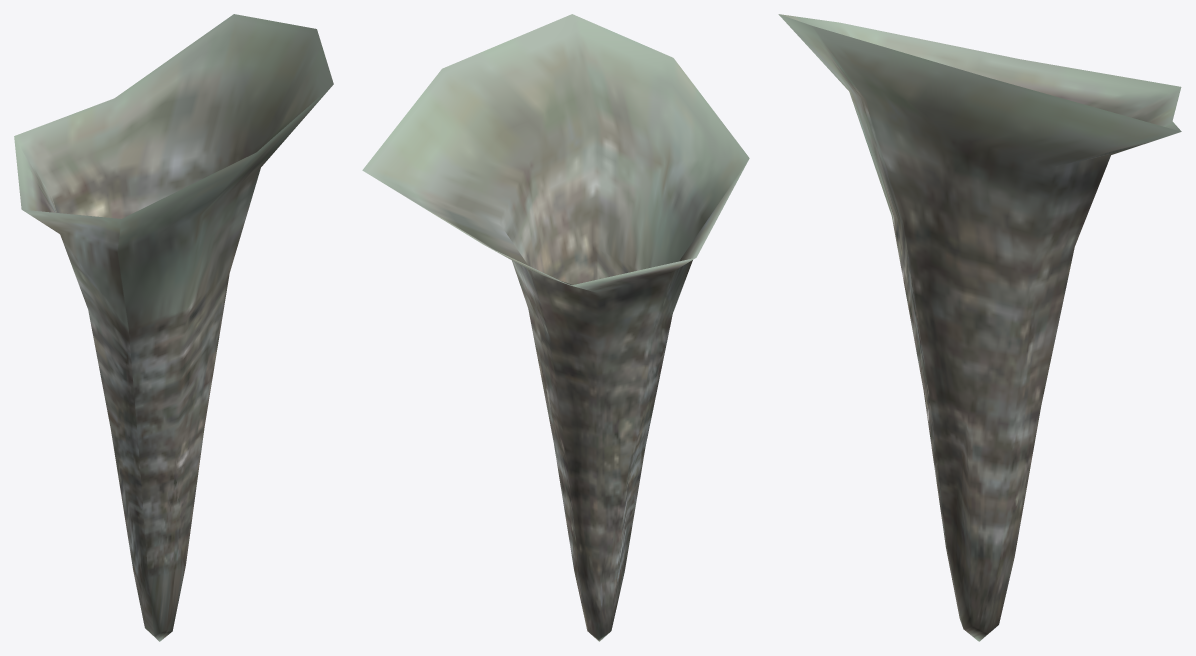
File: TROLLHOLE02_PS-SECRETSTALAG28.fbx
The picture shows the model from 3 angles, left to right: view 1: azimuth 30°, elevation 25°; view 2: azimuth 150°, elevation 25°; view 3: azimuth 270°, elevation 25°; orthographic projection. The views are drawn at different scales.
Visible parts, largest first — view 1: TROLLHOLE02_PS-SECRETSTALAG28; view 2: TROLLHOLE02_PS-SECRETSTALAG28; view 3: TROLLHOLE02_PS-SECRETSTALAG28.
Part boxes in pixels (box(x1,y1,x2,y2)): TROLLHOLE02_PS-SECRETSTALAG28: box(14, 14, 333, 641); TROLLHOLE02_PS-SECRETSTALAG28: box(362, 14, 749, 641); TROLLHOLE02_PS-SECRETSTALAG28: box(778, 14, 1181, 641).
Size of the model in its own units: 15666 by 31001 by 16858.
1 material, 1 textured.
